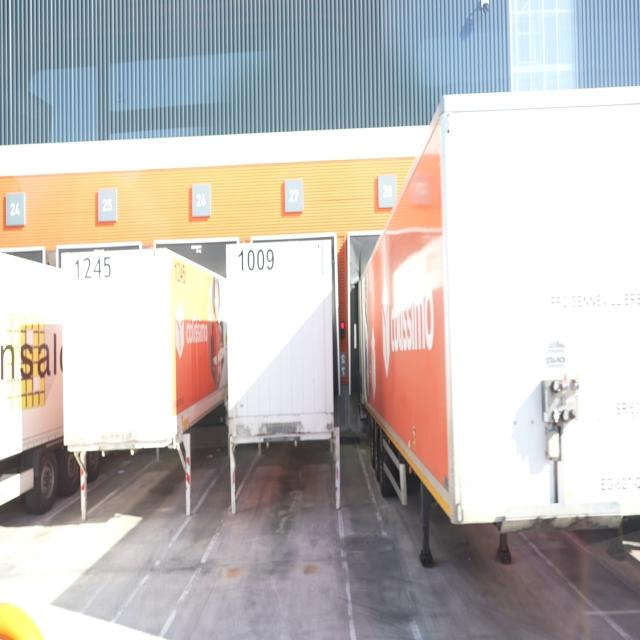Code: (235, 245, 276, 275), (73, 253, 113, 283)
